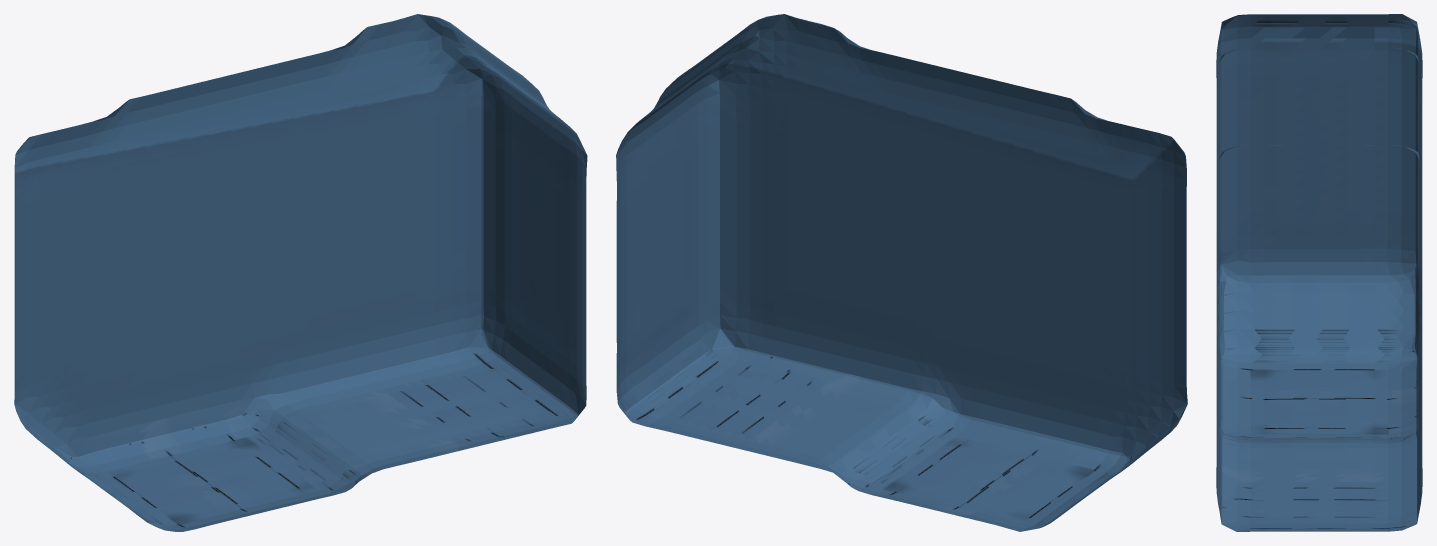
3 renders of one model, left to right at view 1: azimuth 30°, elevation 25°; view 2: azimuth 150°, elevation 25°; view 3: azimuth 270°, elevation 25°, orthographic. The views are drawn at different scales.
Visible parts, largest first — view 1: model; view 2: model; view 3: model.
Part boxes in pixels (box(x1,y1,x2,y2)): model: box(14, 14, 587, 531); model: box(616, 14, 1187, 531); model: box(1216, 14, 1422, 531).
Size of the model in its own units: 1 by 0.7397 by 0.3928.
Materials: 1 (1 with a texture image).
